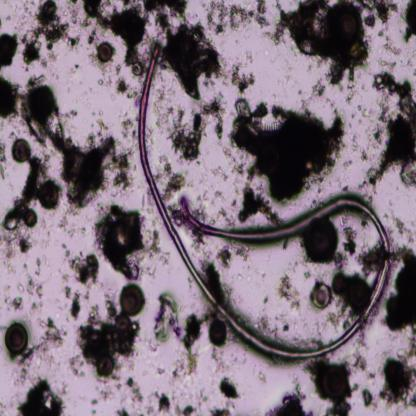Background material: (231, 92, 347, 206), (20, 75, 116, 208), (92, 200, 168, 280), (368, 72, 416, 190), (160, 23, 230, 101), (80, 2, 148, 76), (3, 157, 48, 257), (74, 302, 140, 359), (22, 0, 80, 64), (271, 0, 329, 63), (384, 242, 416, 334), (378, 337, 416, 411), (235, 185, 284, 229), (168, 100, 201, 164), (23, 316, 65, 366), (6, 260, 48, 309), (17, 372, 64, 414), (331, 269, 369, 316), (155, 285, 182, 351), (183, 310, 207, 381), (322, 47, 368, 84), (62, 246, 100, 287), (142, 0, 190, 32), (205, 1, 254, 32), (200, 249, 229, 300), (263, 384, 307, 416), (111, 146, 138, 198), (200, 94, 230, 140), (274, 269, 304, 311), (0, 72, 23, 122), (158, 158, 185, 200), (82, 110, 108, 152), (152, 89, 176, 133), (230, 60, 258, 96), (363, 1, 400, 26), (253, 290, 275, 330), (216, 242, 248, 268), (305, 358, 325, 399), (297, 78, 326, 106), (358, 242, 384, 272), (115, 77, 141, 105), (0, 34, 20, 70), (219, 375, 244, 401), (378, 29, 402, 56), (401, 0, 416, 43), (148, 389, 172, 415), (60, 209, 82, 236), (64, 285, 82, 318), (223, 146, 243, 174), (326, 308, 351, 330), (193, 189, 210, 221), (349, 348, 369, 375), (396, 213, 416, 240), (352, 134, 369, 164), (126, 374, 143, 404), (93, 382, 116, 404), (254, 0, 271, 29), (343, 226, 357, 256), (217, 206, 235, 228), (280, 314, 297, 337), (167, 360, 183, 384), (118, 118, 136, 139), (326, 400, 351, 415), (70, 356, 86, 379), (368, 123, 384, 145), (206, 402, 233, 414), (360, 388, 376, 407), (173, 403, 197, 415), (213, 163, 228, 182), (377, 58, 396, 72), (97, 76, 112, 92), (356, 104, 371, 119), (116, 406, 128, 414)
Diatom: (304, 217, 342, 264), (327, 2, 364, 50), (321, 361, 350, 400), (249, 106, 290, 133), (118, 282, 146, 316), (4, 321, 30, 352), (310, 281, 332, 309), (38, 180, 58, 210), (11, 136, 31, 165), (209, 318, 228, 346), (22, 205, 39, 230), (97, 40, 114, 64), (97, 357, 115, 377), (131, 61, 144, 76)
Microfibre: (137, 46, 394, 368)
